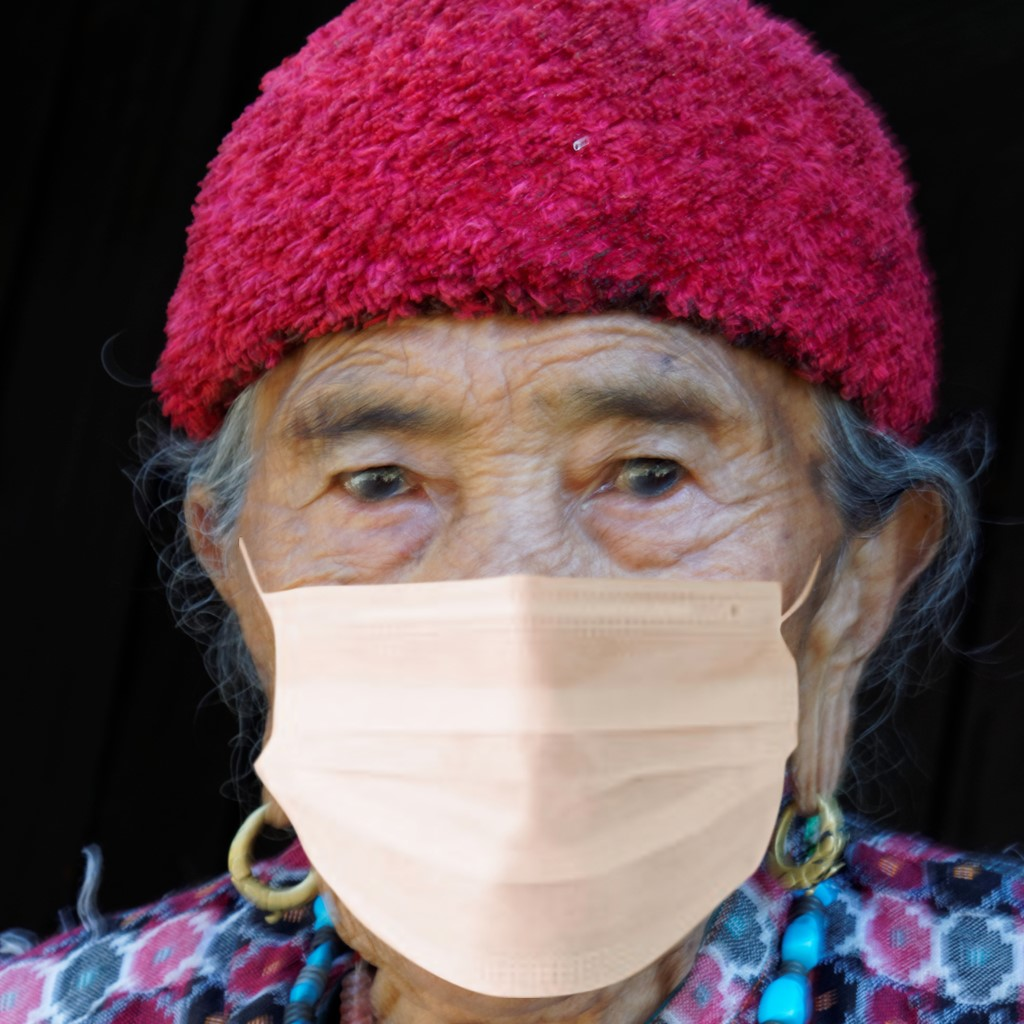con_mascara: (209, 201, 857, 993)
